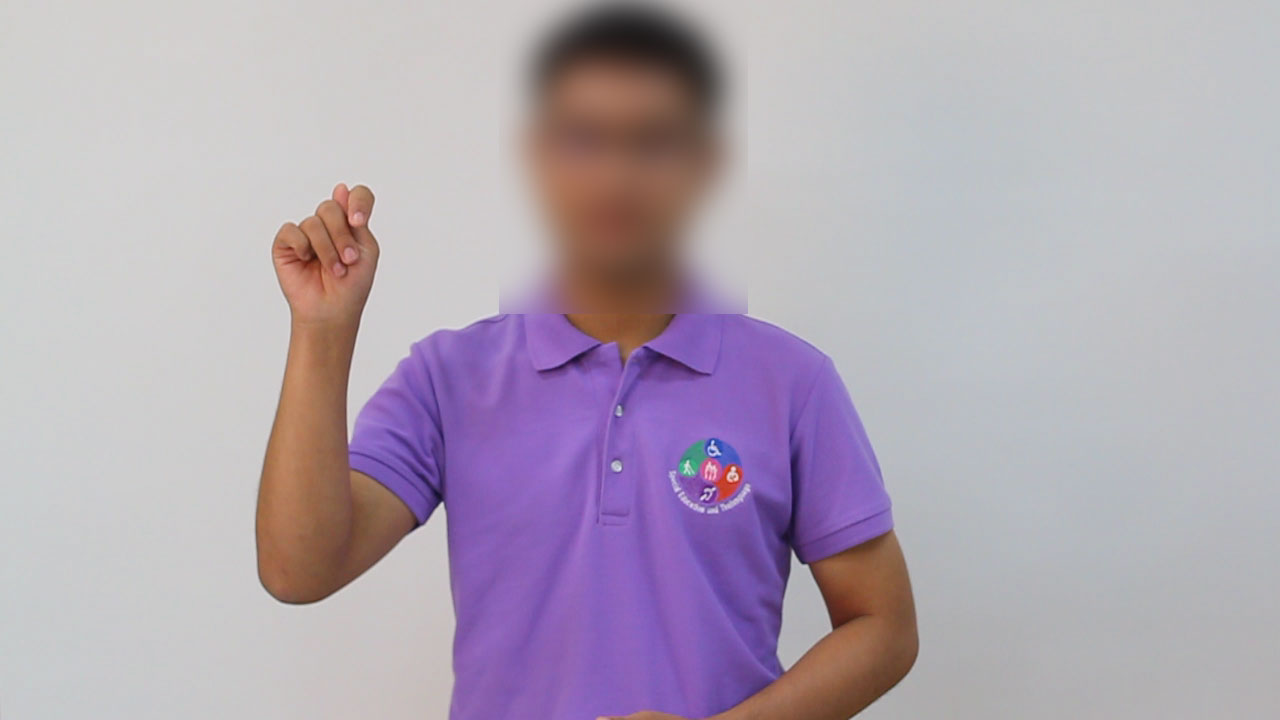tor: (263, 173, 394, 337)
